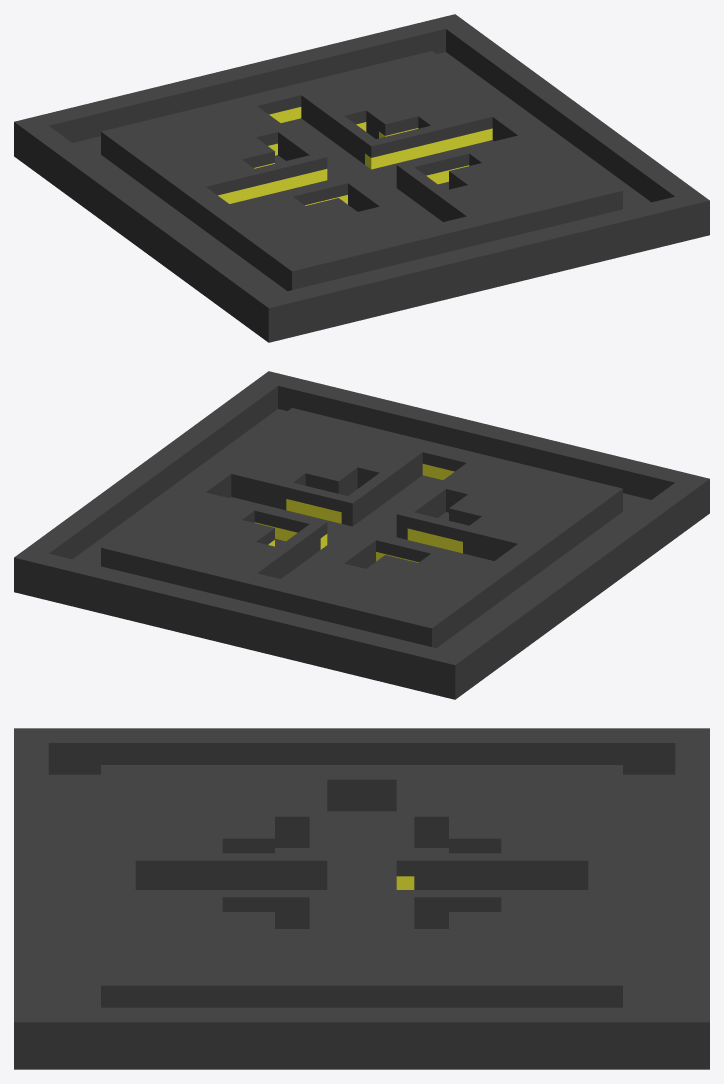
Rendered from towerPlate1-1.obj.
3 renders of one model, top to bottom at view 1: azimuth 30°, elevation 25°; view 2: azimuth 150°, elevation 25°; view 3: azimuth 270°, elevation 25°, orthographic. The views are drawn at different scales.
Size of the model in its own units: 4 by 0.3 by 4.
Materials: 1 (1 with a texture image).
